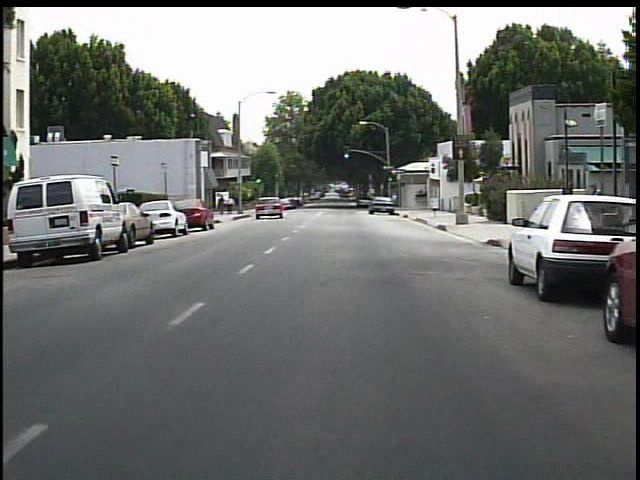person: (217, 195, 229, 218), (226, 196, 237, 218)
